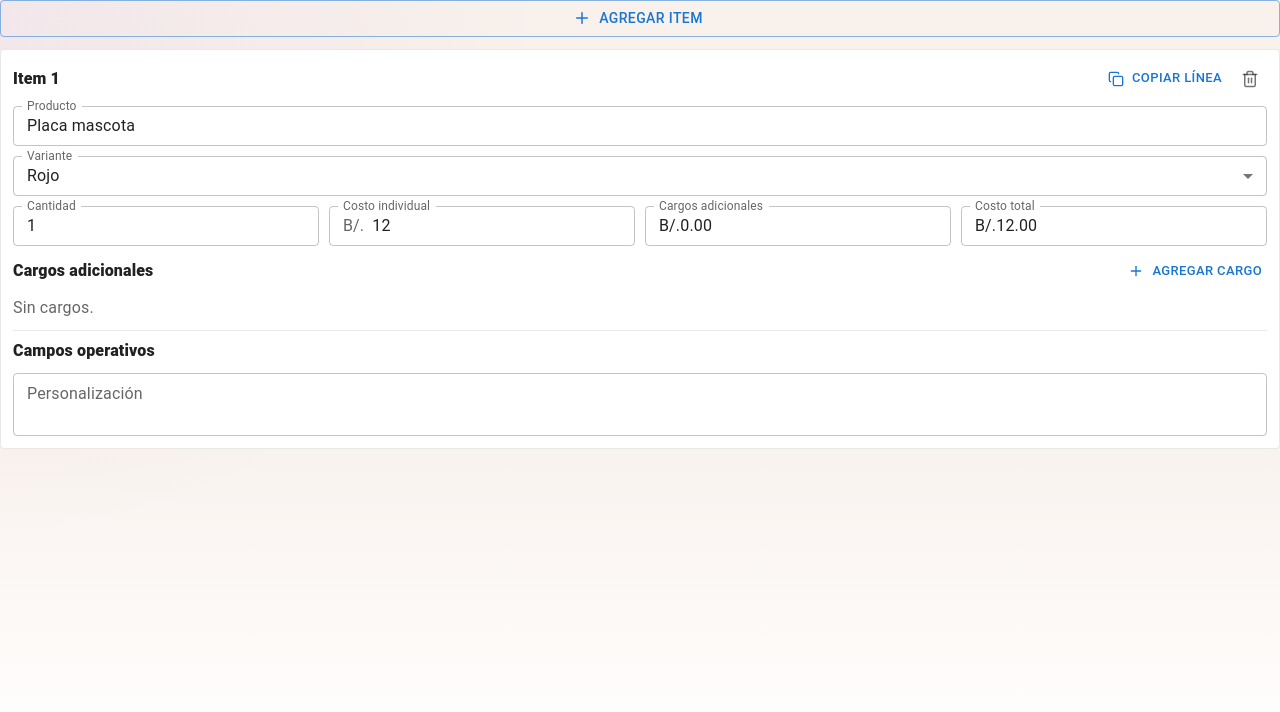
it: OrderItemsEditor › duplicates the manually edited unit price instead of resetting to the product original price
Replace the text in the field labelled "Costo individual" with "18.5" at coordinates (504, 226), box [372,206,635,246]
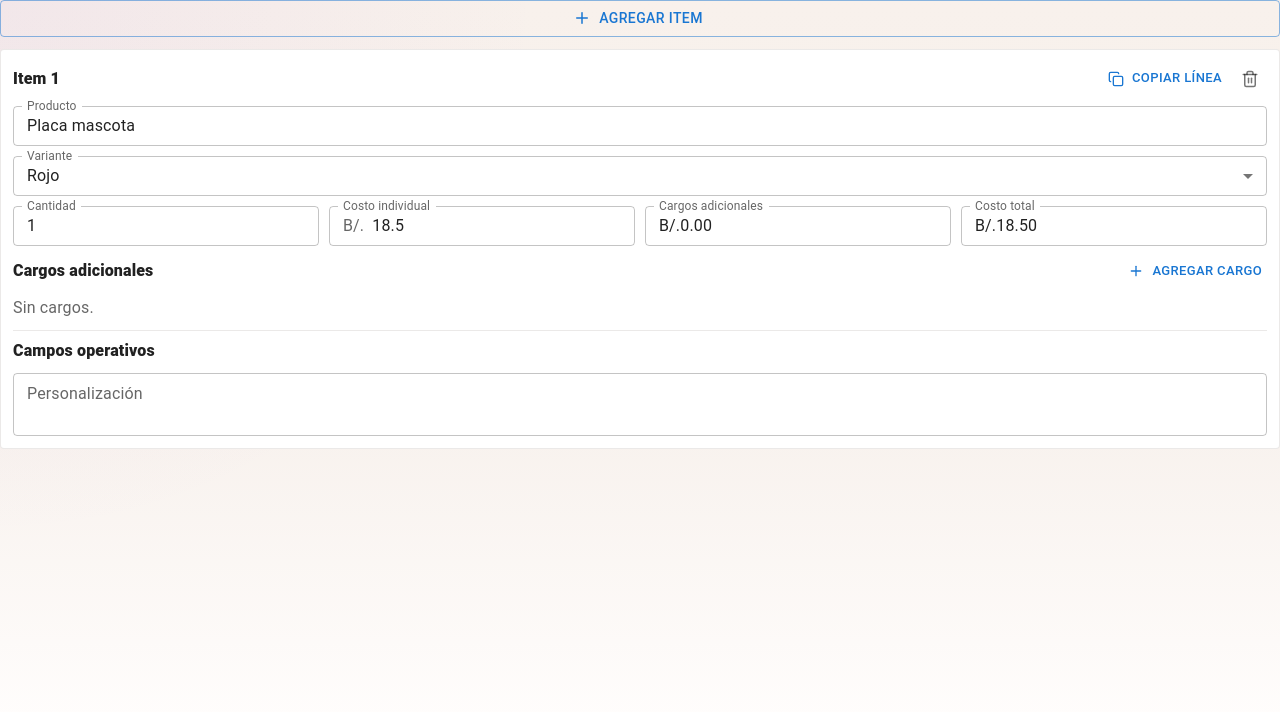
Click the button "Copiar línea" at coordinates (1166, 78), box [1105,63,1227,94]
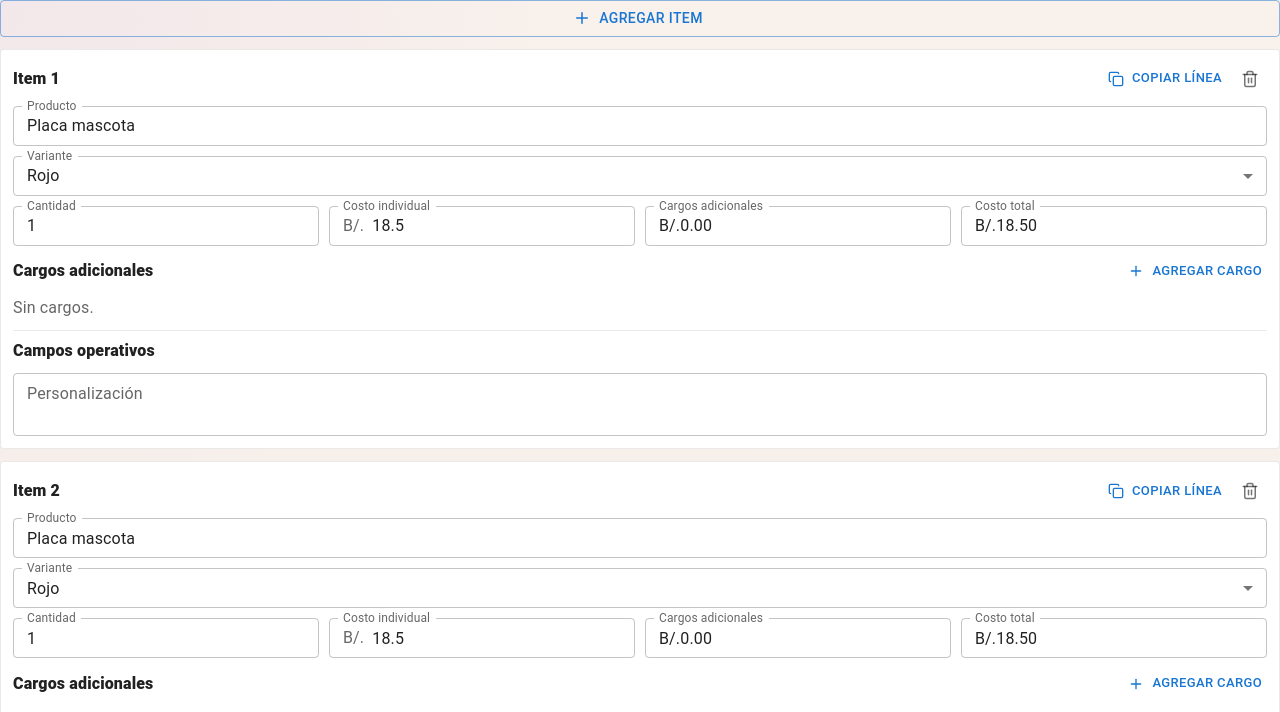
Expected: the number of fields labelled "Costo individual" is 2, [372,206,635,246]; [372,618,635,658]
Now the 2nd field labelled "Costo individual" holds "18.5", box [372,618,635,658]
